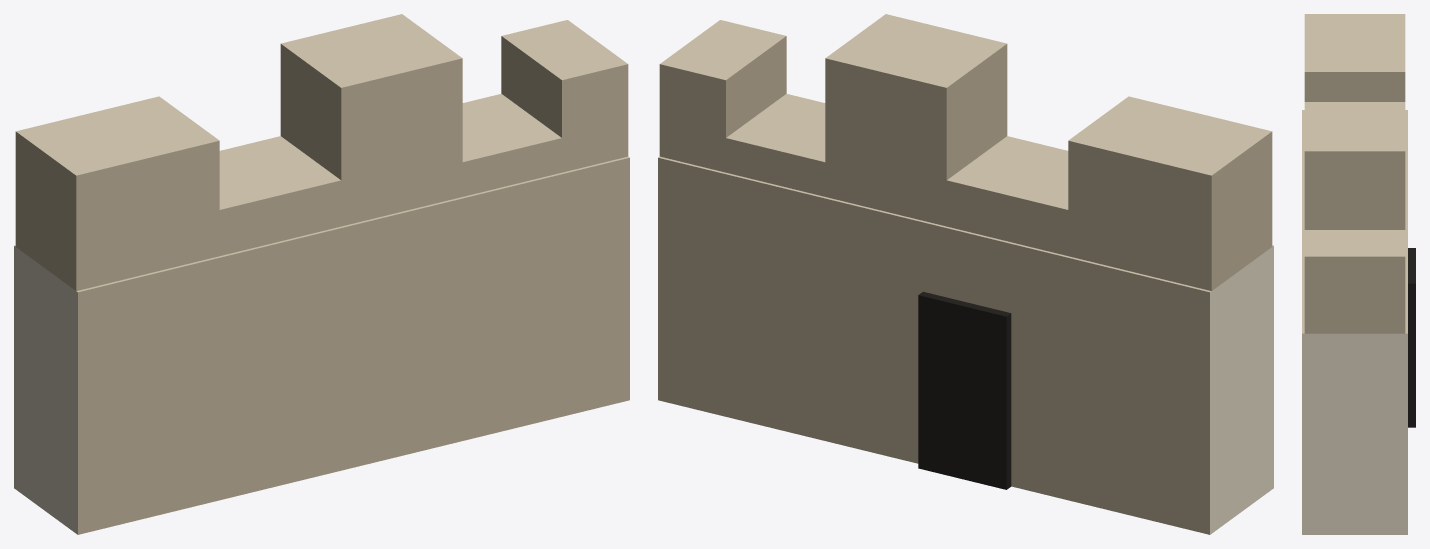
The model's file is bld_ruin.glb.
3 renders of one model, left to right at view 1: azimuth 30°, elevation 25°; view 2: azimuth 150°, elevation 25°; view 3: azimuth 270°, elevation 25°, orthographic. The views are drawn at different scales.
Visible parts, largest first — view 1: bld_ruin; view 2: bld_ruin; view 3: bld_ruin.
Boxes of the visible parts, x1,y1,x2,y2 form: bld_ruin: (14,14,629,534); bld_ruin: (658,14,1273,534); bld_ruin: (1302,14,1415,534).
Size of the model in its own units: 1 by 0.66 by 0.215.
Materials: 1 (1 with a texture image).
